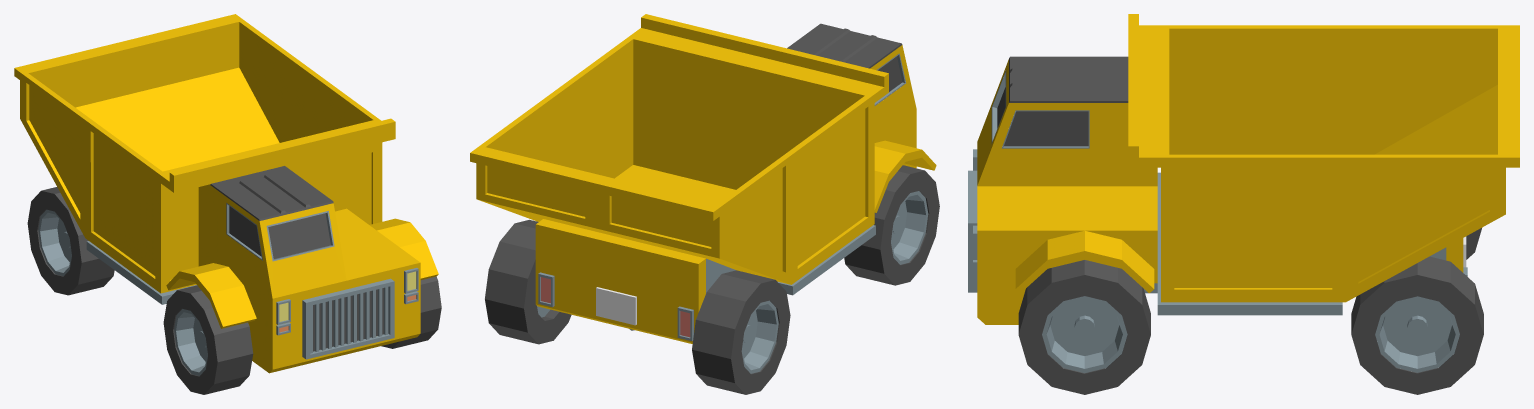
The model's file is dumptruck.glb.
3 views of the same model, side by side, from view 1: azimuth 30°, elevation 25°; view 2: azimuth 150°, elevation 25°; view 3: azimuth 270°, elevation 25° (orthographic). The views are drawn at different scales.
Visible parts, largest first — view 1: Dumptruck_01_Cube; view 2: Dumptruck_01_Cube; view 3: Dumptruck_01_Cube.
Part boxes in pixels (x1,y1,x2,y2): Dumptruck_01_Cube: (14, 14, 441, 394); Dumptruck_01_Cube: (470, 14, 939, 394); Dumptruck_01_Cube: (968, 14, 1519, 394).
Bounding box in the file's own units: 3.73 × 3.22 × 6.5.
